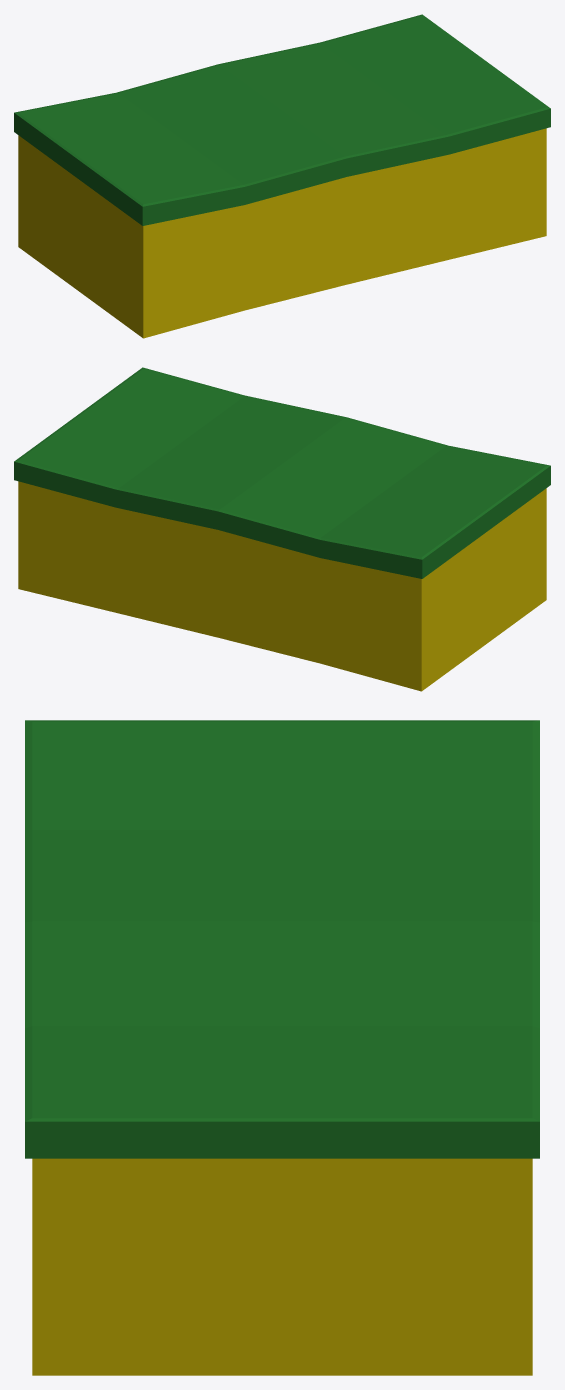
File: sponge.fbx
3 views of the same model, one above another, from view 1: azimuth 30°, elevation 25°; view 2: azimuth 150°, elevation 25°; view 3: azimuth 270°, elevation 25° (orthographic). The views are drawn at different scales.
Parts seen in each view (by area): view 1: sponge; view 2: sponge; view 3: sponge.
Part boxes in pixels (left/top/right/bottom): sponge: left=14, top=14, right=550, bottom=338; sponge: left=14, top=367, right=550, bottom=691; sponge: left=25, top=720, right=539, bottom=1375.
Size of the model in its own units: 0.2467 by 0.0775 by 0.1347.
